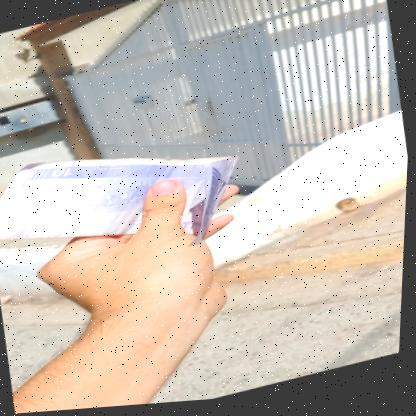vef_back: (0, 116, 257, 295)
